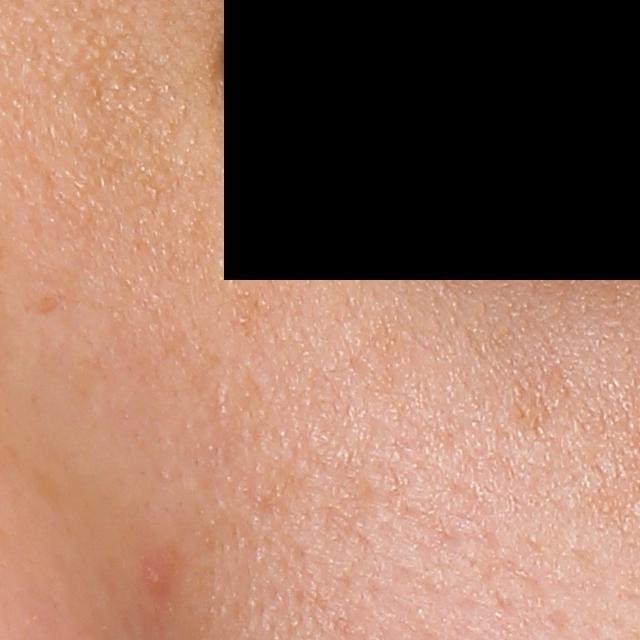melasma: (506, 358, 577, 440)
papule: (143, 557, 173, 595)
